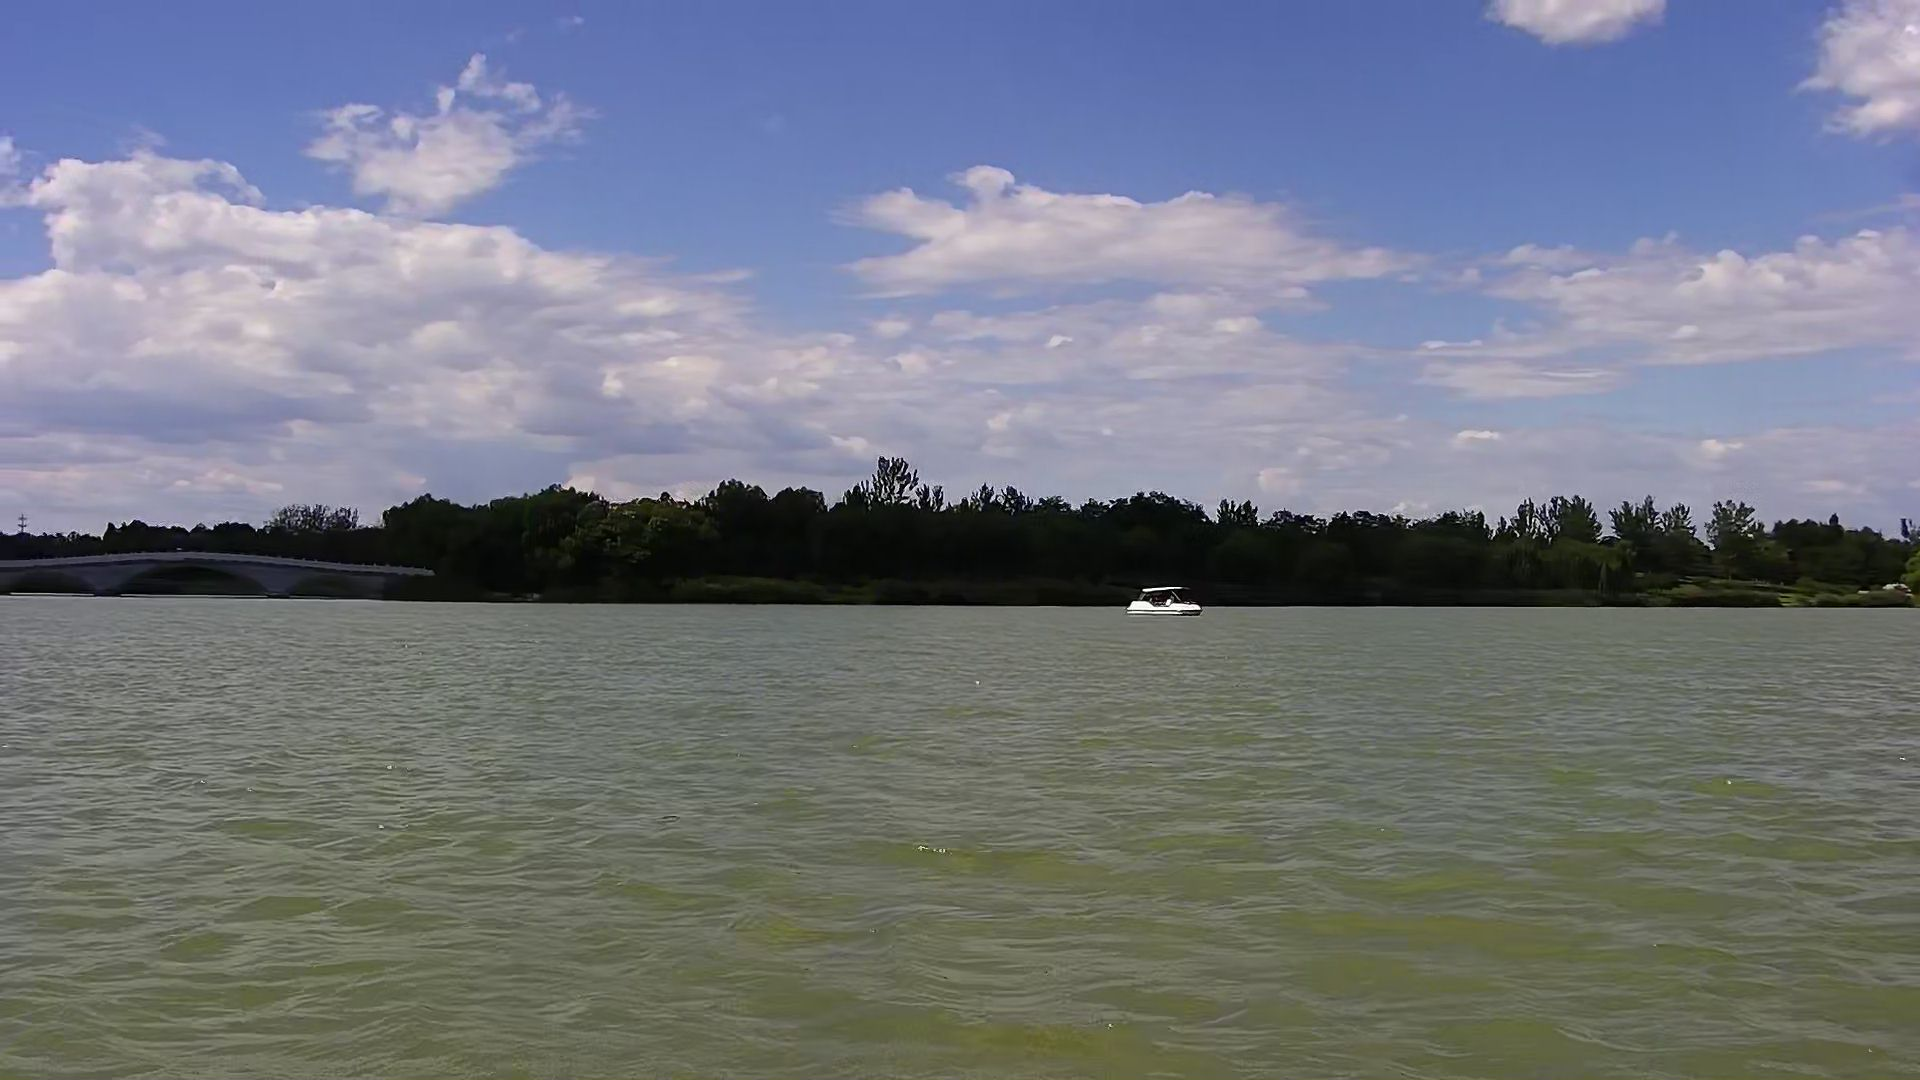boat: (1124, 578, 1211, 621)
bridge: (1, 546, 447, 604)
